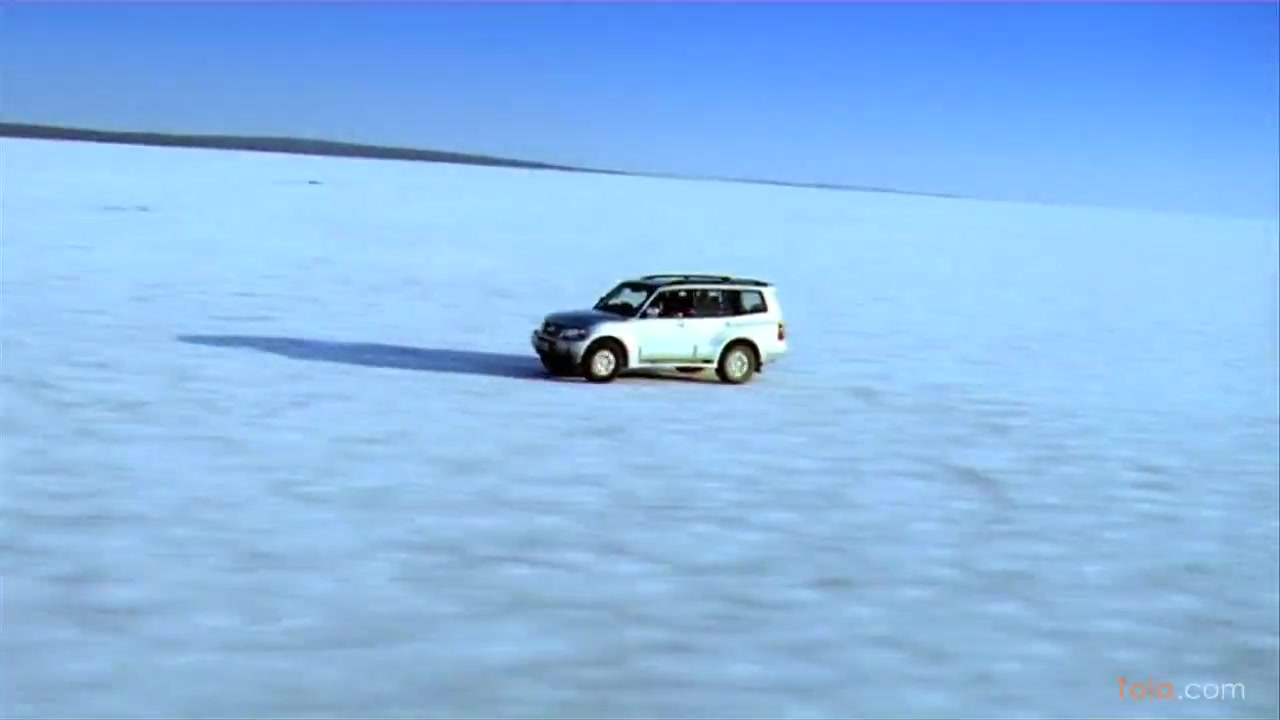car: (532, 272, 788, 390)
